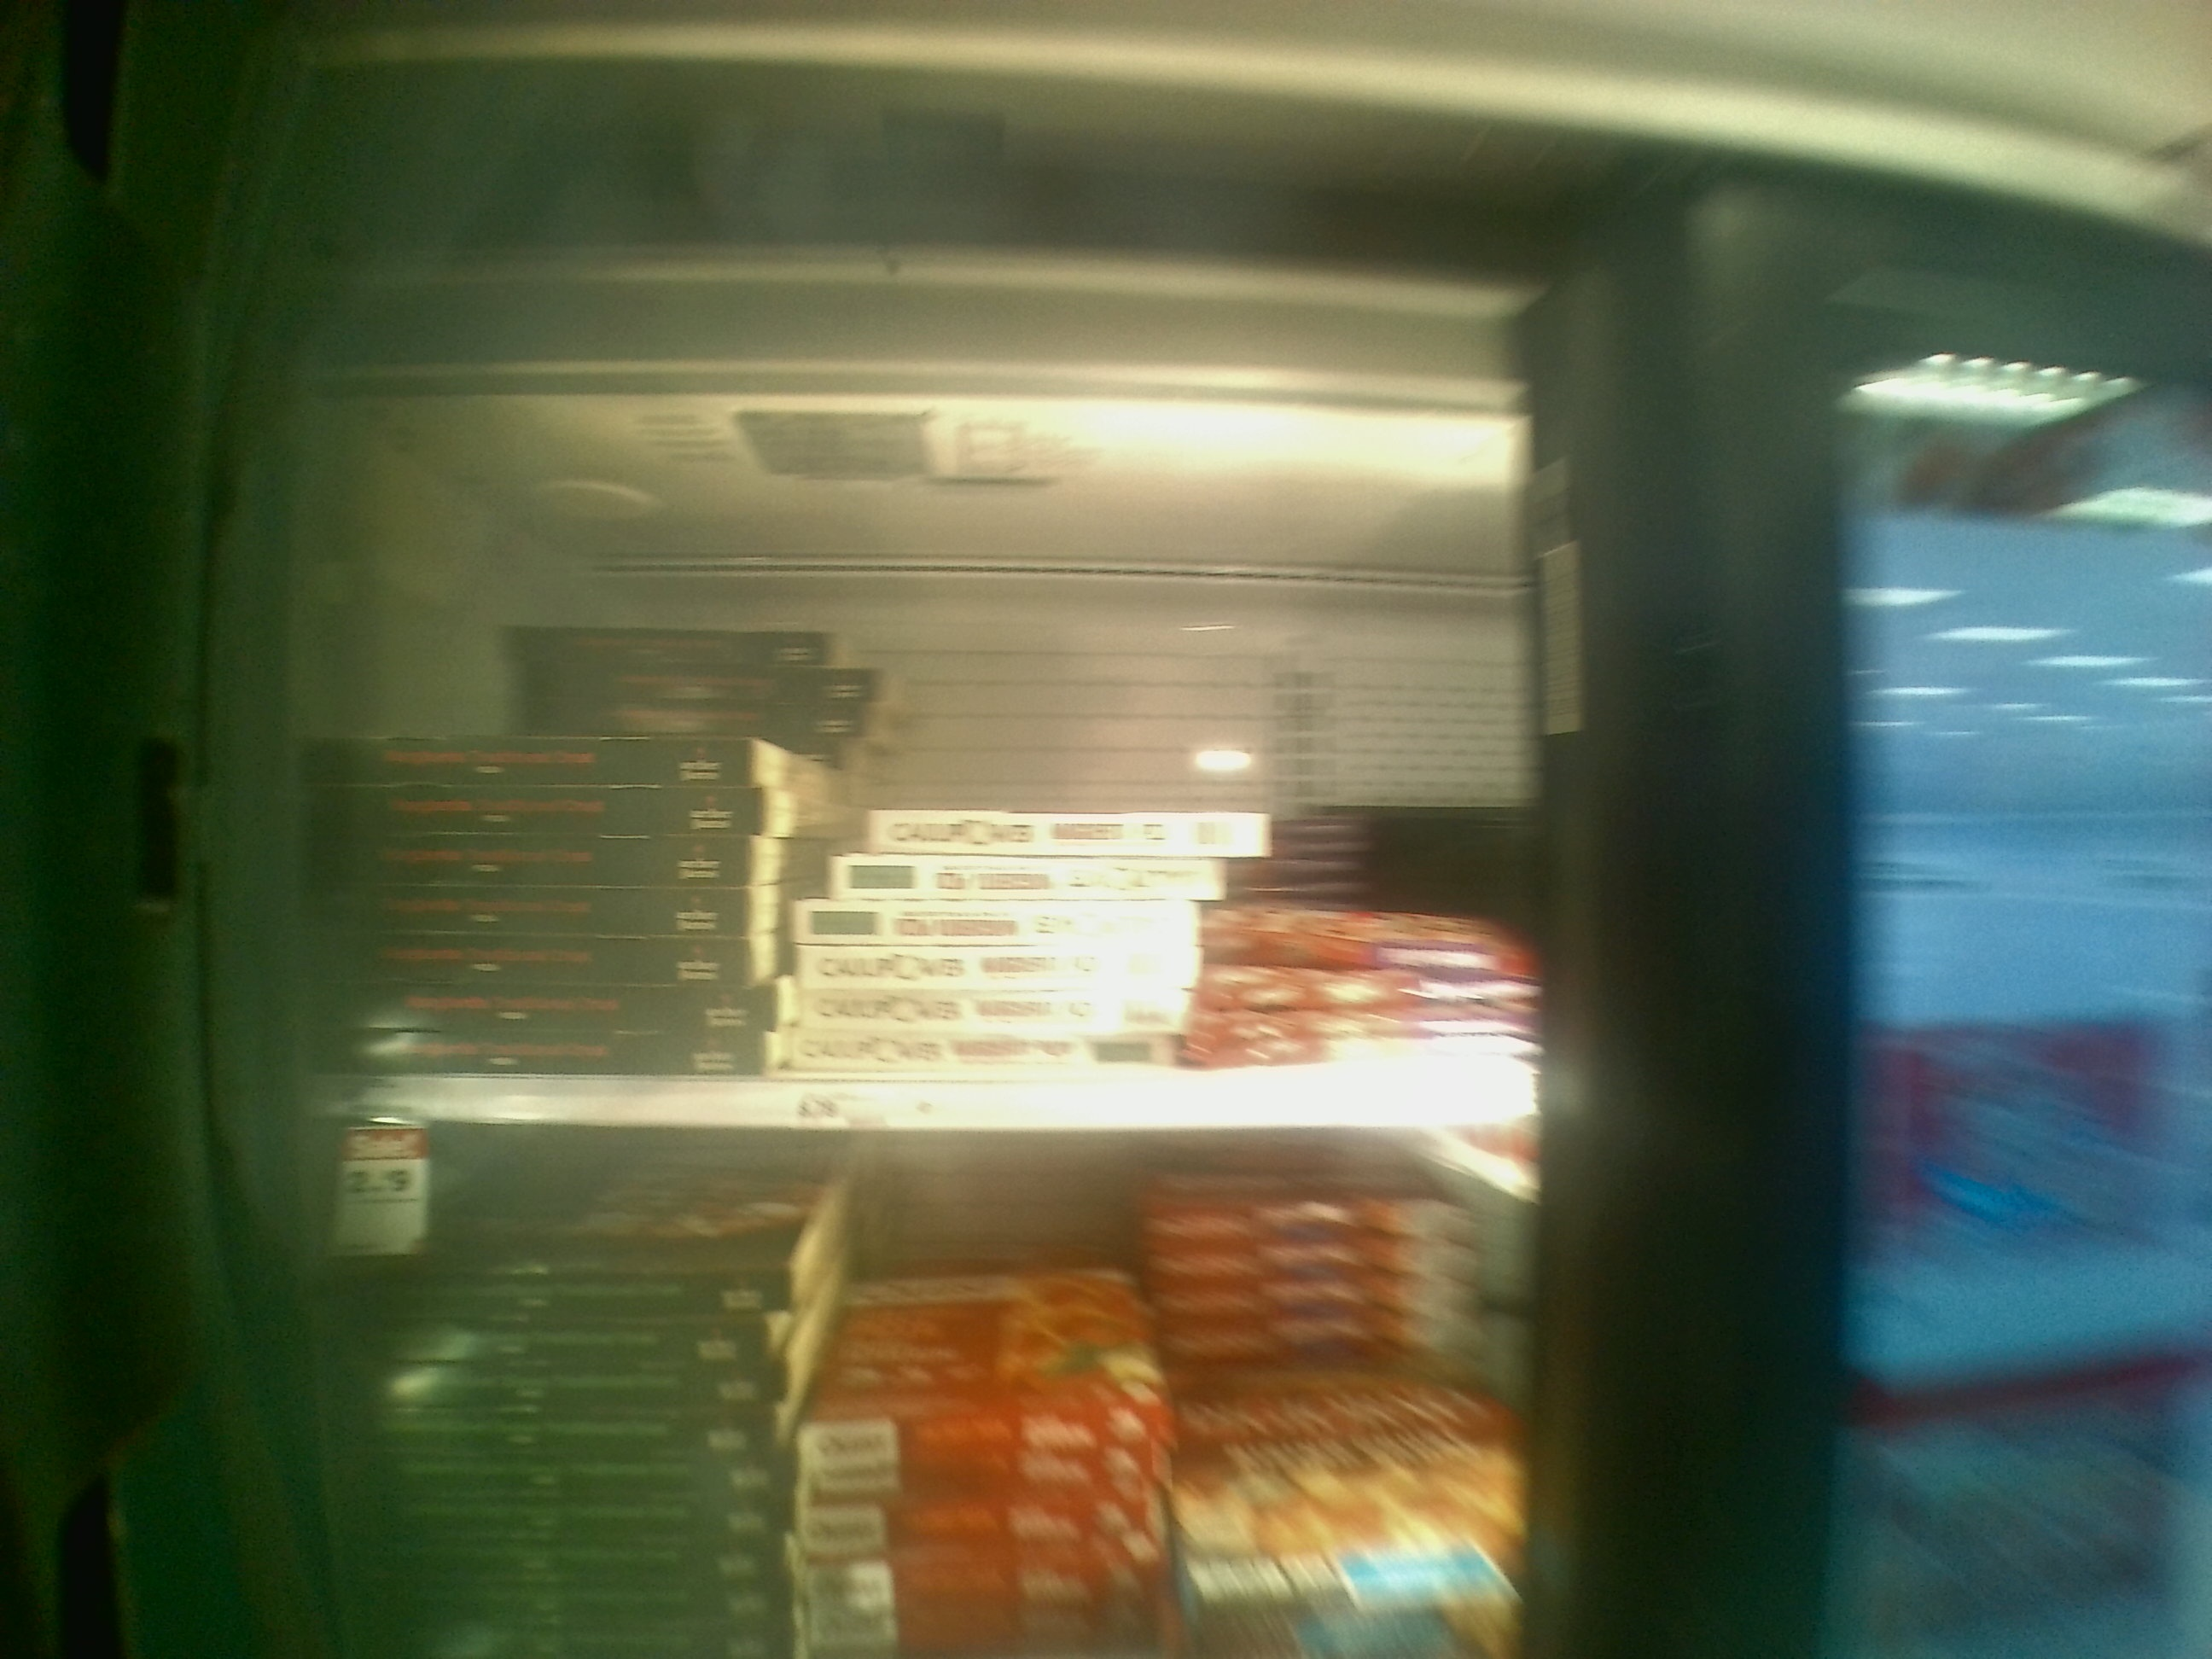shelf: (298, 364, 1541, 1145)
